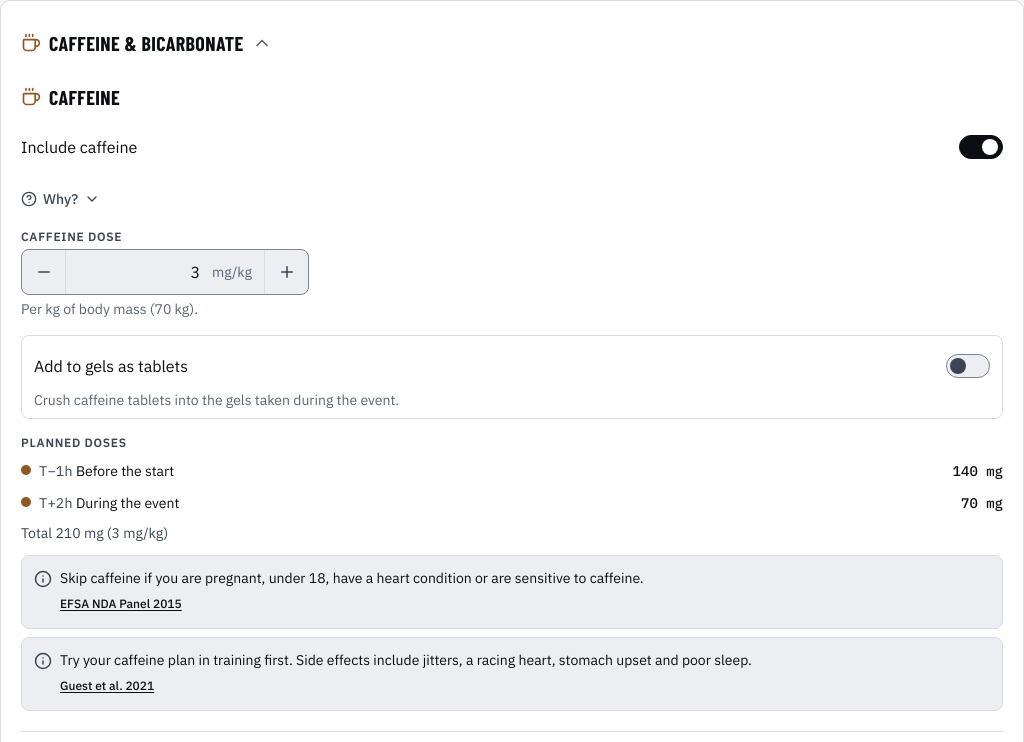
Test: SupplementsSection: caffeine › adds caffeine to gels as tablets with a tablet size choice
Expected: the element "Tablet size" is not shown
Click the switch labelled "Add to gels as tablets": (111, 366) [34,344,990,388]
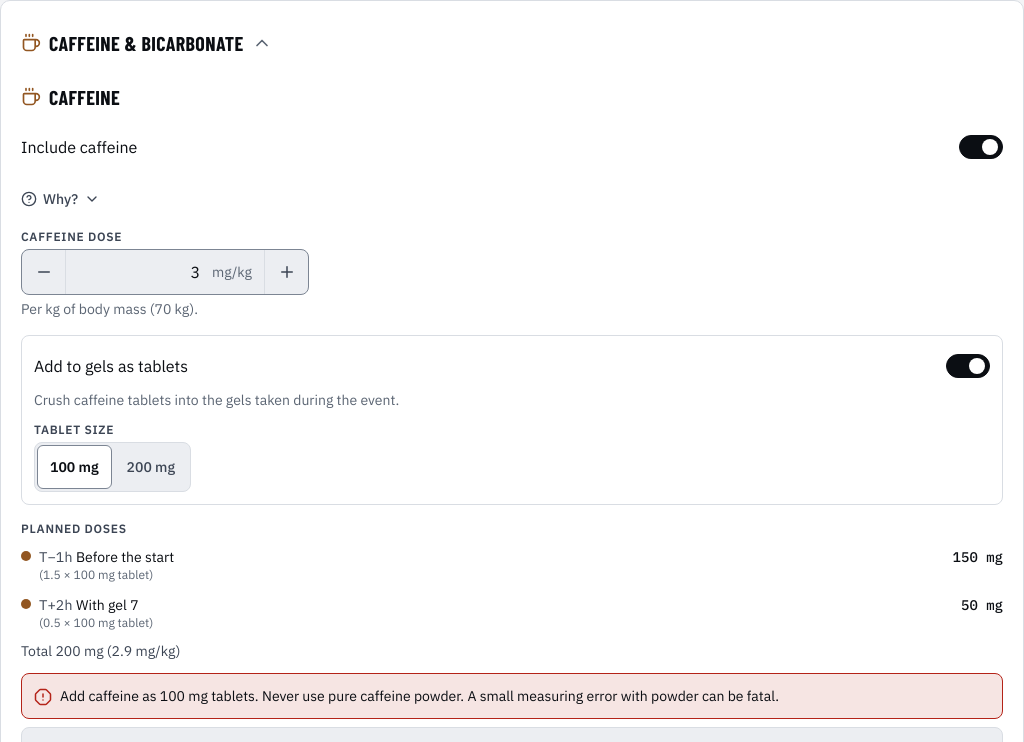
Now the text "150 mg" is shown, box [953,547,1003,567]
Now the text "(1.5 × 100 mg tablet)" is shown, box [39,567,153,582]
Now the text "50 mg" is shown, box [961,595,1003,615]
Click the radio button labelled "200 mg": (151, 467) [114,445,188,489]
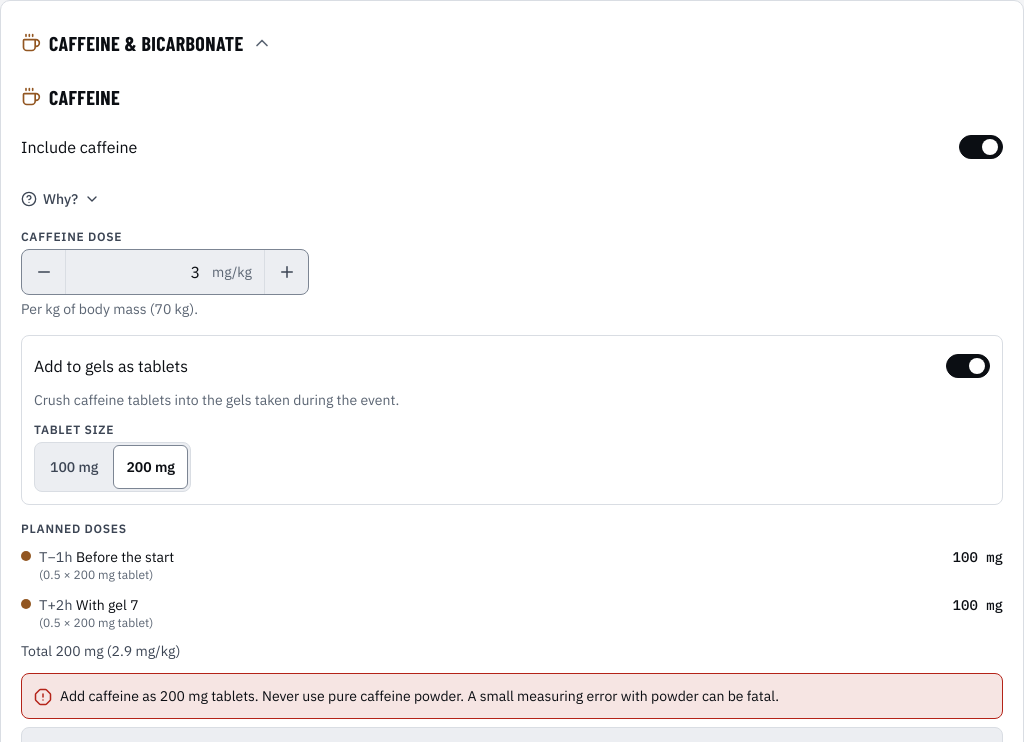
Now the text "Add caffeine as 200 mg tablets" is shown, box [60,687,779,705]
Now the text "100 mg" in the row of "Before the start" is shown, box [953,548,1003,566]
Now the text "(0.5 × 200 mg tablet)" below "T−1h" is shown, box [39,567,153,582]
